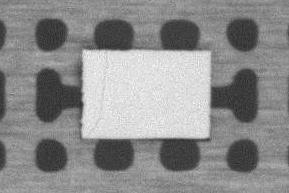DIE_CRACK: (84, 51, 108, 139)
